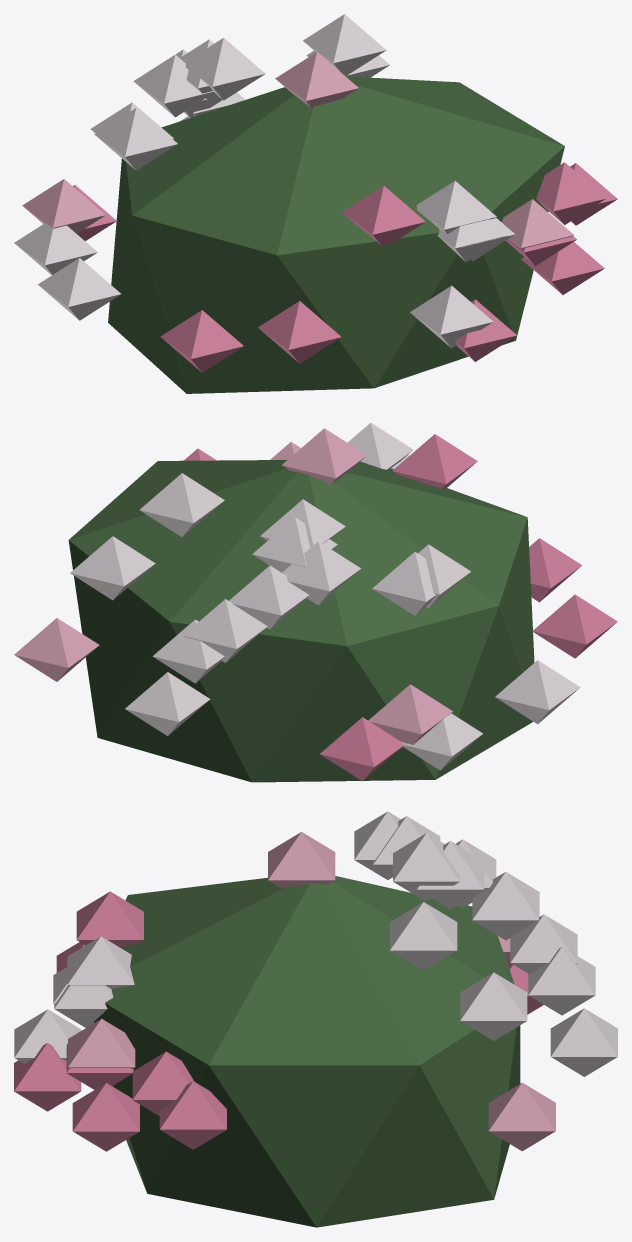
The model's file is bush_blossom.glb.
The picture shows the model from 3 angles, top to bottom: view 1: azimuth 30°, elevation 25°; view 2: azimuth 150°, elevation 25°; view 3: azimuth 270°, elevation 25°; orthographic projection. The views are drawn at different scales.
Visible parts, largest first — view 1: bush_blossom; view 2: bush_blossom; view 3: bush_blossom.
Part boxes in pixels (x1,y1,x2,y2): bush_blossom: [14, 14, 617, 393]; bush_blossom: [14, 422, 617, 782]; bush_blossom: [14, 811, 617, 1227].
Bounding box in the file's own units: 0.9672 × 0.5182 × 0.9528.
